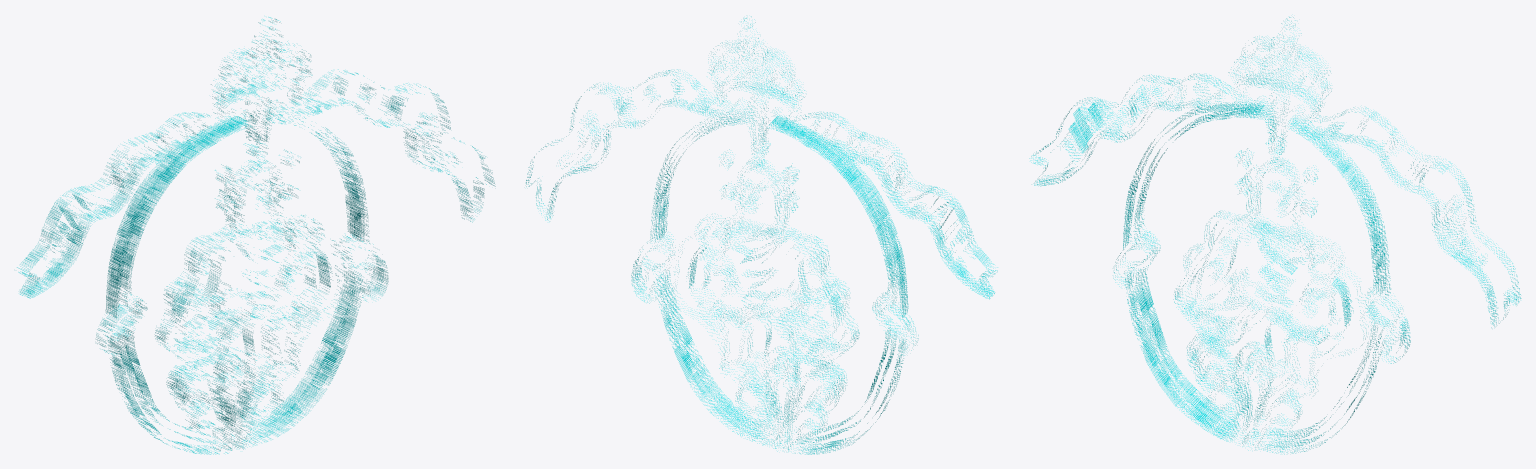
File: meu-modelo.glb
The picture shows the model from 3 angles, left to right: view 1: azimuth 30°, elevation 25°; view 2: azimuth 150°, elevation 25°; view 3: azimuth 330°, elevation 25°; orthographic projection. The views are drawn at different scales.
Visible parts, largest first — view 1: Layer_001; view 2: Layer_001; view 3: Layer_001.
Part boxes in pixels (x1=…): Layer_001: x1=17, y1=17, x2=495, y2=454; Layer_001: x1=526, y1=16, x2=997, y2=454; Layer_001: x1=1029, y1=17, x2=1521, y2=454.
Size of the model in its own units: 1.81 by 1.55 by 0.0571.
